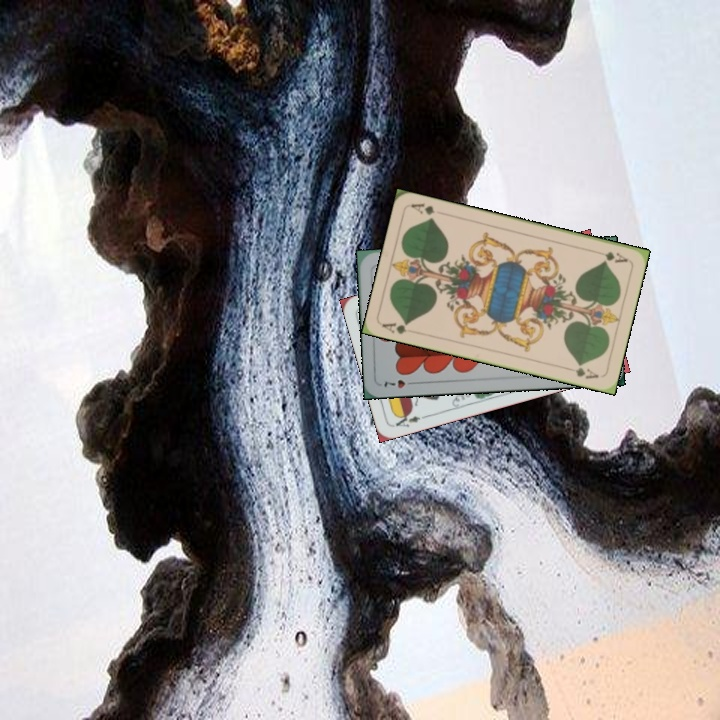EA: (391, 408, 430, 430)
GA: (591, 247, 630, 265), (378, 318, 413, 337)
H7: (380, 376, 419, 391)
